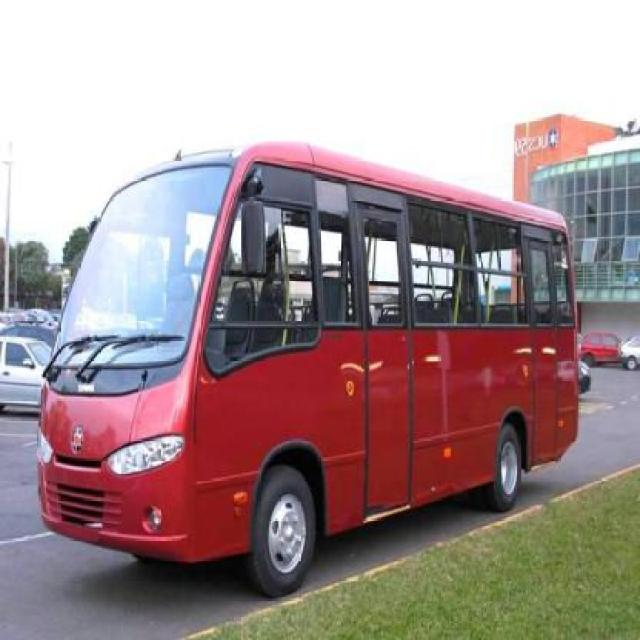bus: (37, 135, 581, 593)
